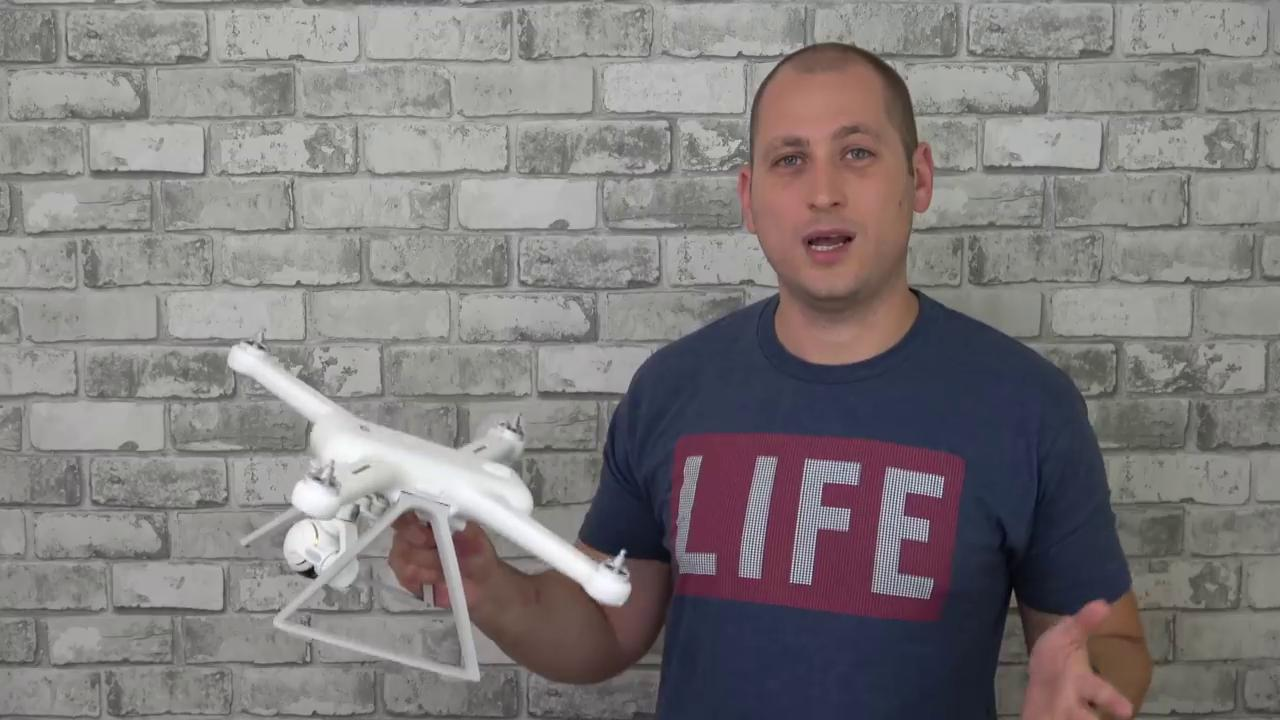drone: (213, 322, 650, 621)
